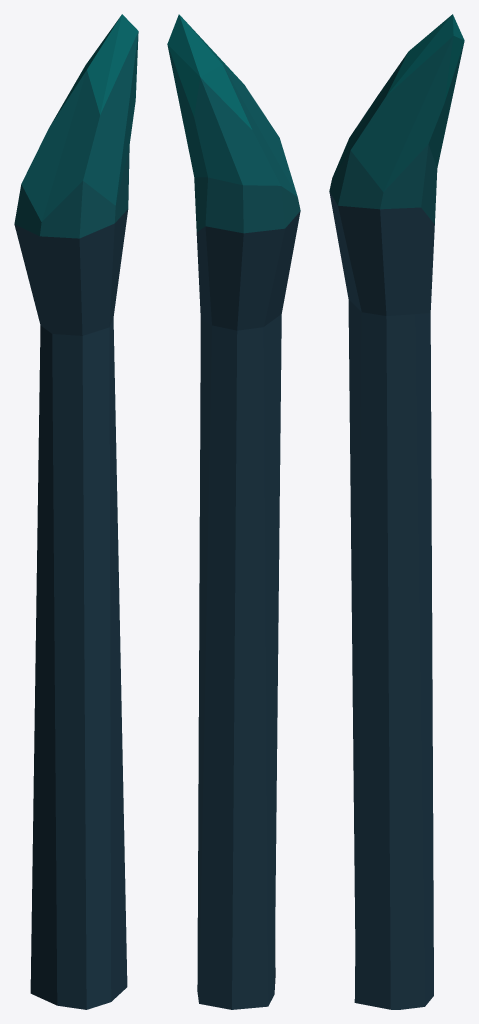
Rendered from Rock_4.fbx.
3 views of the same model, side by side, from view 1: azimuth 30°, elevation 25°; view 2: azimuth 150°, elevation 25°; view 3: azimuth 330°, elevation 25° (orthographic). The views are drawn at different scales.
Visible parts, largest first — view 1: Rock_4; view 2: Rock_4; view 3: Rock_4.
Boxes of the visible parts, <box> form: Rock_4: <box>14,14,138,1009</box>; Rock_4: <box>167,14,300,1009</box>; Rock_4: <box>329,14,464,1009</box>.
Bounding box in the file's own units: 10.73 × 87.21 × 8.41.
